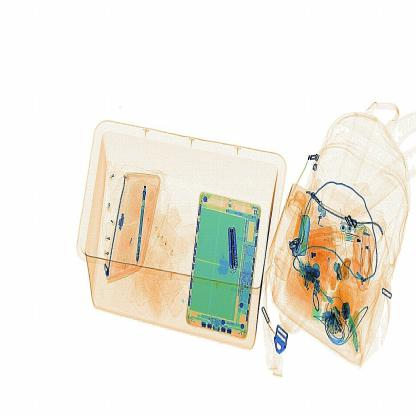scissors: (226, 224, 242, 274)
